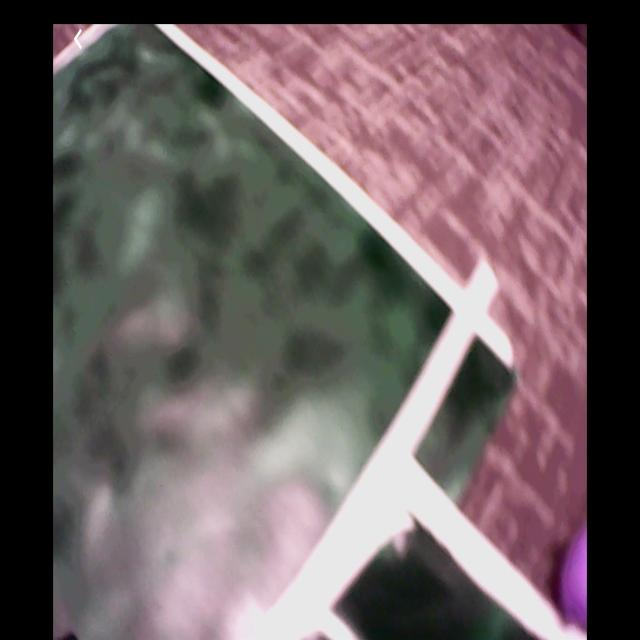ball: (559, 525, 587, 629)
